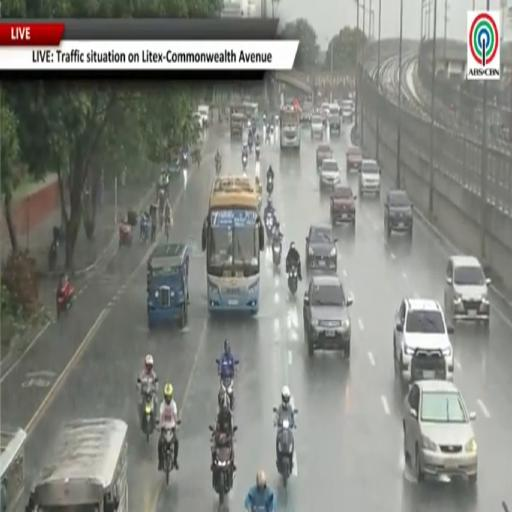bus: (26, 419, 128, 511), (202, 175, 264, 314), (0, 429, 26, 511), (280, 106, 300, 150)
car: (403, 380, 477, 486), (393, 298, 453, 383), (303, 275, 353, 358), (444, 255, 491, 327), (306, 226, 337, 271), (384, 190, 413, 237), (330, 185, 356, 228), (358, 159, 381, 198), (319, 158, 340, 189), (316, 144, 332, 170), (346, 147, 362, 173), (328, 104, 341, 134), (310, 114, 323, 140), (300, 101, 314, 123), (341, 100, 354, 122), (198, 105, 209, 126), (320, 103, 329, 126), (192, 112, 202, 130)
jeepney: (147, 244, 189, 329), (230, 106, 245, 139), (243, 102, 258, 120)
motorcycle: (274, 419, 296, 487), (213, 443, 233, 504), (216, 359, 234, 409), (163, 428, 175, 485), (57, 281, 74, 318), (143, 390, 155, 442), (119, 222, 132, 248), (48, 240, 58, 271), (288, 265, 298, 295), (272, 235, 281, 266), (140, 216, 149, 244), (265, 212, 273, 239), (265, 124, 272, 143), (267, 176, 273, 195), (182, 151, 188, 169), (251, 121, 257, 135), (255, 146, 260, 162), (248, 137, 253, 152), (216, 159, 221, 174), (242, 154, 247, 169)
